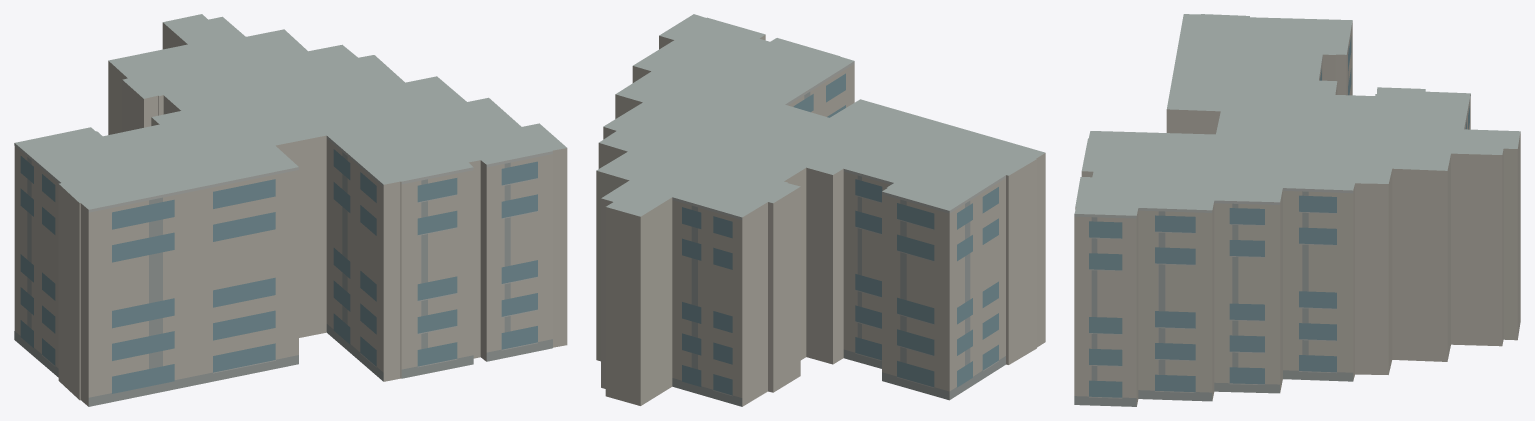
The model's file is survey-upis-32841650.glb.
3 renders of one model, left to right at view 1: azimuth 30°, elevation 25°; view 2: azimuth 150°, elevation 25°; view 3: azimuth 270°, elevation 25°, orthographic. The views are drawn at different scales.
Visible parts, largest first — view 1: survey-upis-32841650.tmp; view 2: survey-upis-32841650.tmp; view 3: survey-upis-32841650.tmp.
Boxes of the visible parts, box(x1,y1,x2,y2) form: survey-upis-32841650.tmp: box(14, 14, 567, 406); survey-upis-32841650.tmp: box(596, 14, 1045, 406); survey-upis-32841650.tmp: box(1074, 14, 1520, 406).
Size of the model in its own units: 38.28 by 16.9 by 35.75.
